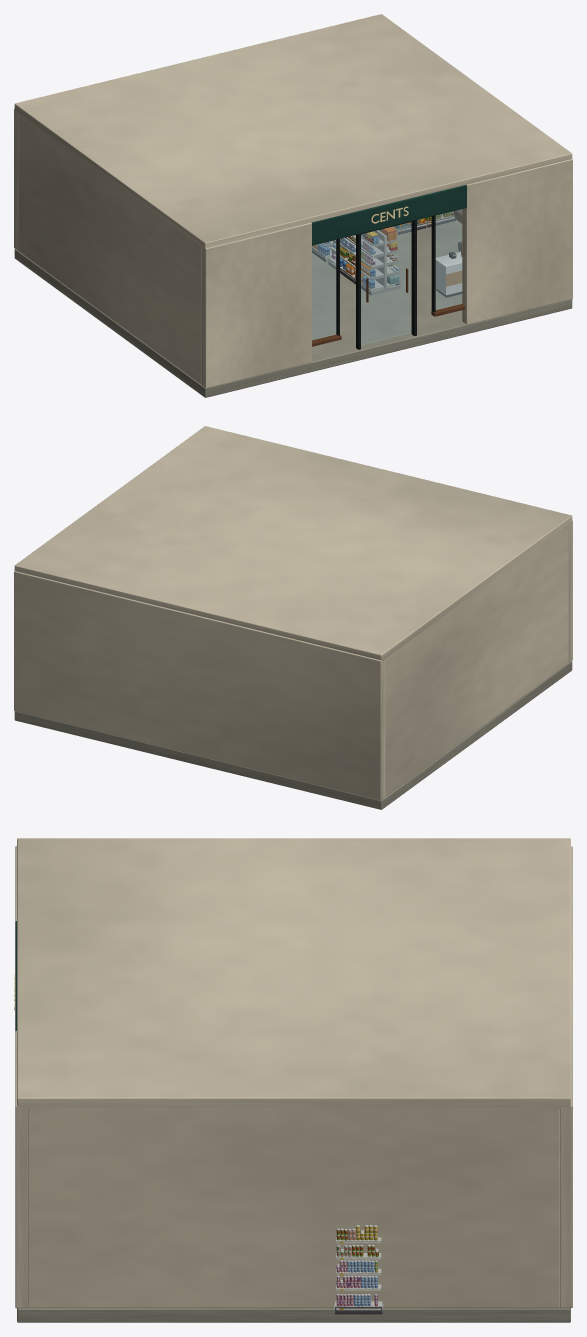
File: retail-store-kit.glb
3 views of the same model, one above another, from view 1: azimuth 30°, elevation 25°; view 2: azimuth 150°, elevation 25°; view 3: azimuth 270°, elevation 25° (orthographic). The views are drawn at different scales.
Parts seen in each view (by area): view 1: CENTS NEW STORE ceiling, CENTS NEW STORE left wall, CENTS NEW STORE floor slab, CENTS NEW STORE front pier, CENTS NEW STORE front pier.001, CENTS NEW STORE entry glass, CENTS NEW STORE front header, CENTS NEW STORE storefront glazing.001, CENTS NEW STORE storefront glazing, fixture.002, stock.002, Service counter - Fixtures, white laminate (+3 smaller); view 2: CENTS NEW STORE ceiling, CENTS NEW STORE rear wall, CENTS NEW STORE left wall, CENTS NEW STORE floor slab, CENTS NEW STORE front pier; view 3: CENTS NEW STORE ceiling, CENTS NEW STORE right wall, CENTS NEW STORE floor slab, CENTS NEW STORE rear wall, CENTS NEW STORE front pier.001, stock.004, fixture.004.
Part boxes in pixels (left/top/right/bottom): CENTS NEW STORE ceiling: left=14, top=14, right=572, bottom=249; CENTS NEW STORE left wall: left=18, top=113, right=201, bottom=384; CENTS NEW STORE floor slab: left=14, top=220, right=572, bottom=397; CENTS NEW STORE front pier: left=201, top=222, right=311, bottom=388; CENTS NEW STORE front pier.001: left=462, top=159, right=572, bottom=324; CENTS NEW STORE entry glass: left=361, top=222, right=411, bottom=345; CENTS NEW STORE front header: left=311, top=185, right=466, bottom=245; CENTS NEW STORE storefront glazing.001: left=436, top=209, right=461, bottom=309; CENTS NEW STORE storefront glazing: left=312, top=240, right=335, bottom=340; fixture.002: left=328, top=230, right=400, bottom=295; stock.002: left=332, top=227, right=399, bottom=288; Service counter - Fixtures, white laminate: left=435, top=252, right=462, bottom=295; CENTS NEW STORE ceiling: left=14, top=426, right=572, bottom=661; CENTS NEW STORE rear wall: left=14, top=571, right=385, bottom=800; CENTS NEW STORE left wall: left=385, top=525, right=568, bottom=796; CENTS NEW STORE floor slab: left=14, top=661, right=572, bottom=809; CENTS NEW STORE front pier: left=568, top=520, right=572, bottom=662; CENTS NEW STORE ceiling: left=17, top=838, right=570, bottom=1108; CENTS NEW STORE right wall: left=28, top=1107, right=559, bottom=1308; CENTS NEW STORE floor slab: left=17, top=1308, right=570, bottom=1322; CENTS NEW STORE rear wall: left=560, top=846, right=572, bottom=1308; CENTS NEW STORE front pier.001: left=15, top=1030, right=28, bottom=1308; stock.004: left=336, top=1225, right=378, bottom=1306; fixture.004: left=334, top=1237, right=383, bottom=1314.
Size of the model in its own units: 10.22 by 4.04 by 9.08.
Materials: 97 (91 with a texture image).
